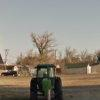Tractor: (22, 57, 65, 100)
